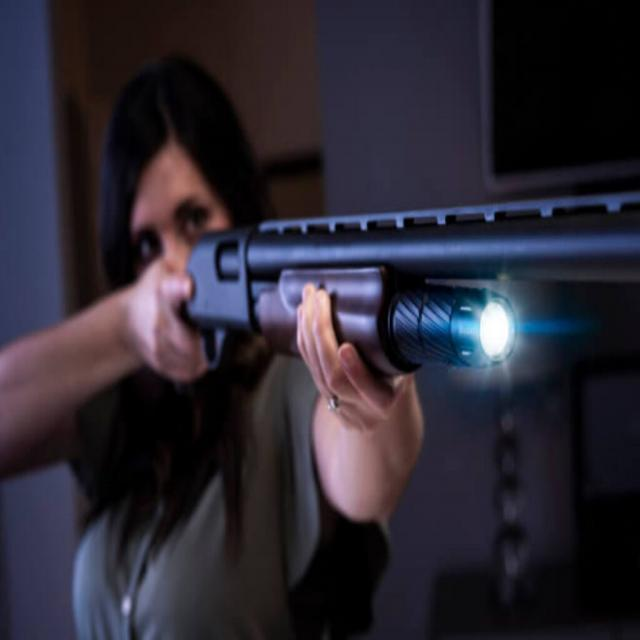shotgun: (111, 185, 640, 406)
